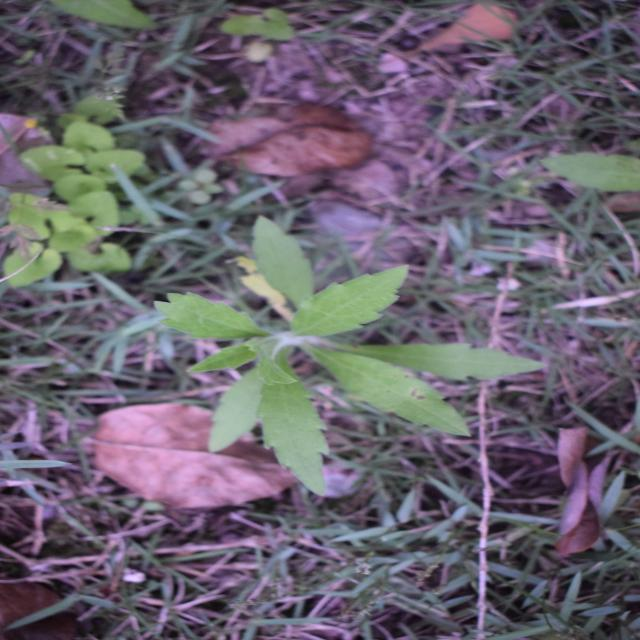horseweed: (146, 158, 408, 476)
